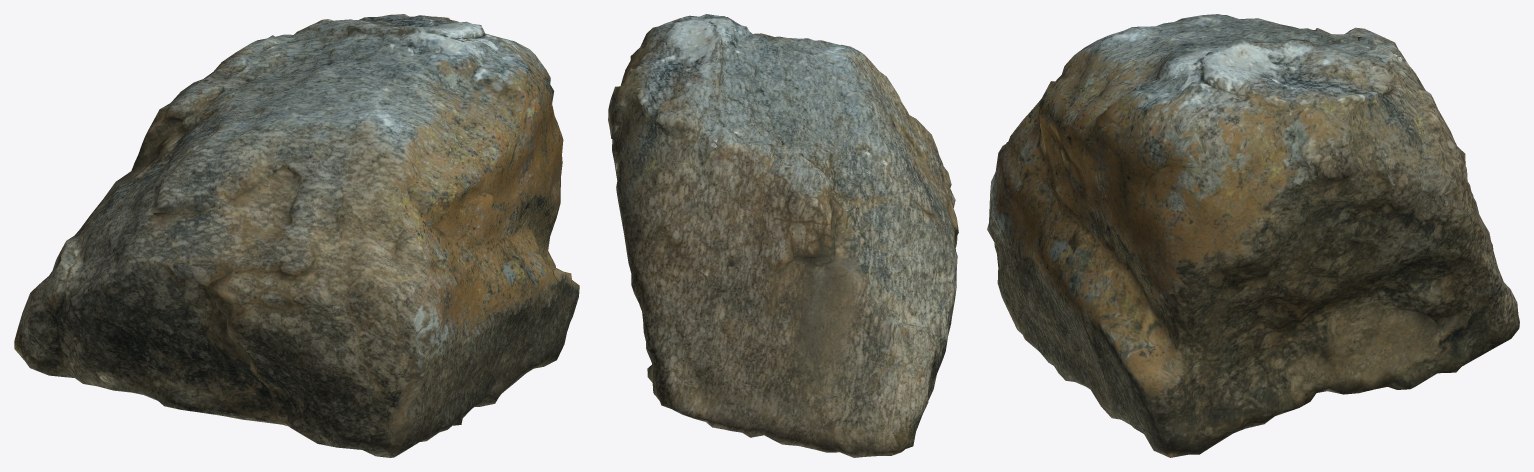
The model's file is namaqualand_boulder_04.glb.
3 renders of one model, left to right at view 1: azimuth 30°, elevation 25°; view 2: azimuth 150°, elevation 25°; view 3: azimuth 270°, elevation 25°, orthographic. The views are drawn at different scales.
Parts seen in each view (by area): view 1: boulder_04; view 2: boulder_04; view 3: boulder_04.
Part boxes in pixels (box(x1,y1,x2,y2)): boulder_04: box(14, 14, 579, 457); boulder_04: box(608, 14, 958, 457); boulder_04: box(987, 14, 1519, 457).
Size of the model in its own units: 2.52 by 1.9 by 2.5.
1 material, 1 textured.
